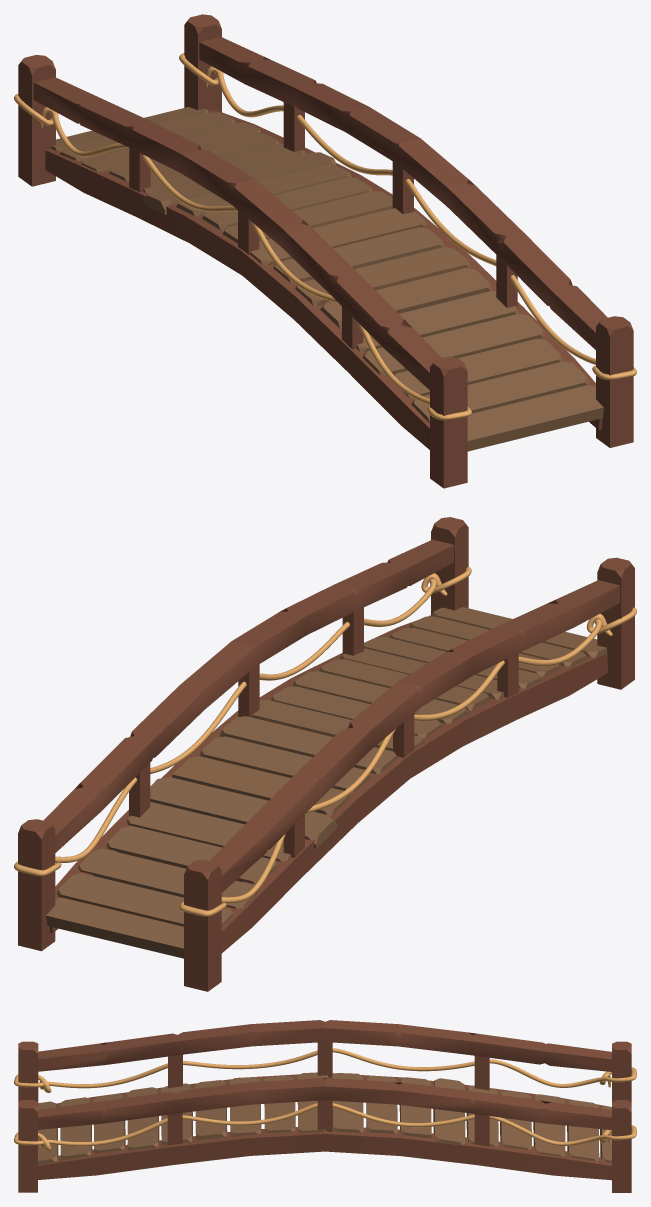
Rendered from port-bridge.fbx.
3 views of the same model, one above another, from view 1: azimuth 30°, elevation 25°; view 2: azimuth 150°, elevation 25°; view 3: azimuth 270°, elevation 25° (orthographic). The views are drawn at different scales.
Parts seen in each view (by area): view 1: iskele-alt.007; view 2: iskele-alt.007; view 3: iskele-alt.007.
Boxes of the visible parts, x1,y1,x2,y2 form: iskele-alt.007: (14, 14, 636, 488); iskele-alt.007: (14, 517, 636, 991); iskele-alt.007: (14, 1020, 636, 1192).
Size of the model in its own units: 242 by 170 by 903.
